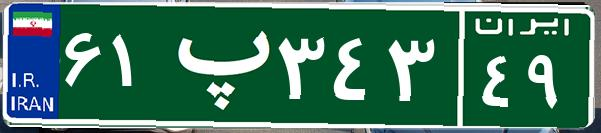1: (110, 28, 158, 105)
3: (385, 28, 445, 110), (273, 28, 330, 110)
4: (330, 28, 385, 110), (475, 38, 525, 113)
6: (57, 26, 110, 107)
9: (525, 38, 570, 115)
پ: (158, 15, 273, 115)
